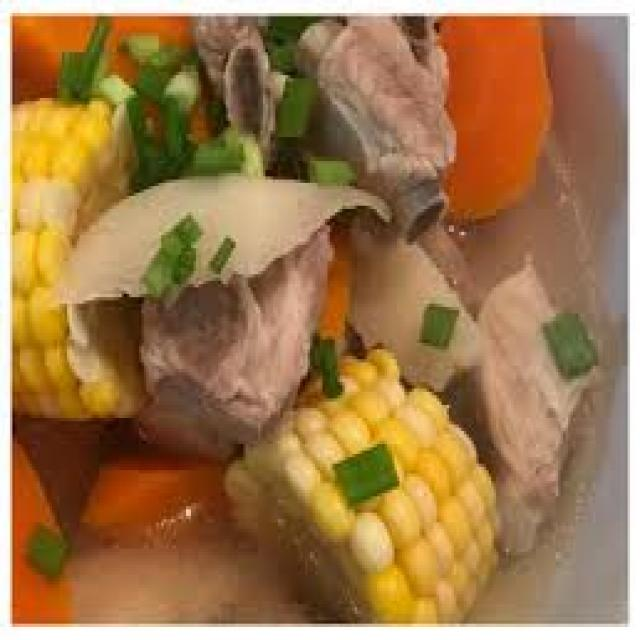organic waste: (223, 340, 496, 624), (129, 222, 332, 454), (12, 95, 146, 421), (47, 170, 390, 297), (452, 254, 596, 548), (290, 20, 454, 235), (10, 10, 211, 137), (434, 13, 551, 216), (350, 219, 481, 395), (79, 441, 236, 535), (188, 16, 278, 170), (10, 428, 72, 620), (52, 16, 107, 104), (424, 229, 481, 307), (161, 131, 258, 176), (538, 304, 598, 372), (330, 441, 392, 503), (320, 206, 350, 330), (119, 32, 189, 72), (263, 16, 310, 66), (126, 98, 158, 170), (273, 72, 312, 130), (136, 65, 198, 98), (308, 329, 338, 388), (305, 154, 357, 186), (417, 297, 456, 336), (94, 65, 134, 95), (161, 95, 181, 147)
